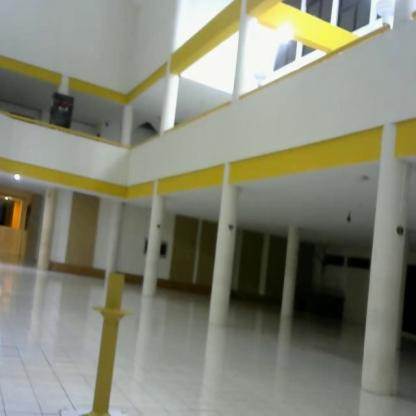pole: (83, 262, 138, 416)
